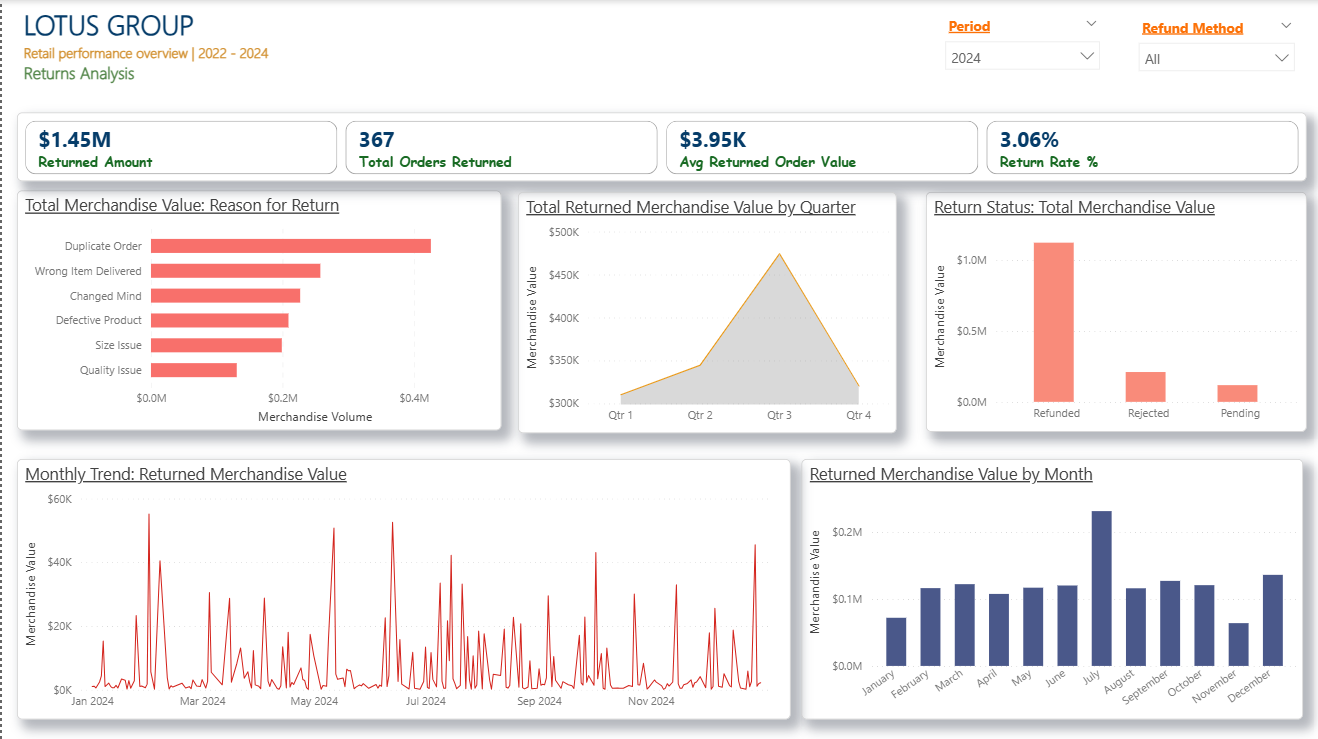

This screenshot's page, from the dashboard's own definition file:
{"tool":"powerbi","page":{"name":"Returns Analysis","canvas":[1280,720],"ordinal":6},"visuals":[{"type":"slicer","fields":{"Values":["fact_returns.return_date.Variation.Date Hierarchy.Year"]},"box":[905.2,10.6,169.9,66.4],"z":0},{"type":"textbox","box":[15.9,0,300,94.2],"z":1000},{"type":"lineChart","title":"Monthly Trend: Returned Merchandise Value","fields":{"Y":["Sum(fact_returns.return_amount)"],"Category":["fact_returns.return_date.Variation.Date Hierarchy.Year","fact_returns.return_date.Variation.Date Hierarchy.Quarter","fact_returns.return_date.Variation.Date Hierarchy.Month","fact_returns.return_date.Variation.Date Hierarchy.Day"]},"box":[14,445.1,750.6,252.8],"z":2000},{"type":"clusteredBarChart","title":"Total Merchandise Value: Reason for Return","fields":{"Category":["fact_returns.return_reason"],"Y":["Sum(fact_returns.return_amount)"]},"box":[14,184.6,469.9,232.6],"z":3000},{"type":"clusteredColumnChart","title":"Return Status: Total Merchandise Value","fields":{"Category":["fact_returns.return_status"],"Y":["Sum(fact_returns.return_amount)"]},"box":[896.4,186.1,369.1,232.6],"z":4000},{"type":"cardVisual","fields":{"Data":["_Measures.Returned Amount","_Measures.Total Orders Returned","_Measures.Avg Returned Order Value","_Measures.Return Rate %"]},"box":[14,108.6,1251.6,66.7],"z":5000},{"type":"clusteredColumnChart","title":"Returned Merchandise Value by Month","fields":{"Y":["_Measures.Returned Amount"],"Category":["fact_returns.return_date.Variation.Date Hierarchy.Month"]},"box":[775.4,445.1,487,252.8],"z":6000},{"type":"areaChart","title":"Total Returned Merchandise Value by Quarter","fields":{"Category":["fact_returns.return_date.Variation.Date Hierarchy.Quarter"],"Y":["Sum(fact_returns.return_amount)"]},"box":[500.9,186.1,367.6,234.2],"z":7000},{"type":"slicer","fields":{"Values":["fact_returns.refund_method"]},"box":[1092.4,11.9,171.2,61.1],"z":7001}]}

Visuals, with their boxes in screenshot pixels (x1, y1, x2, y2), scaled from the page's 1280x720 canvas onto the 1318x739 screenshot:
slicer - fact_returns.return_date.Variation.Date Hierarchy.Year: Rect(932, 11, 1107, 79)
textbox: Rect(16, 0, 325, 97)
"Monthly Trend: Returned Merchandise Value" lineChart: Rect(14, 457, 787, 716)
"Total Merchandise Value: Reason for Return" clusteredBarChart: Rect(14, 189, 498, 428)
"Return Status: Total Merchandise Value" clusteredColumnChart: Rect(923, 191, 1303, 430)
cardVisual - _Measures.Returned Amount x _Measures.Total Orders Returned: Rect(14, 111, 1303, 180)
"Returned Merchandise Value by Month" clusteredColumnChart: Rect(798, 457, 1300, 716)
"Total Returned Merchandise Value by Quarter" areaChart: Rect(516, 191, 894, 431)
slicer - fact_returns.refund_method: Rect(1125, 12, 1301, 75)
